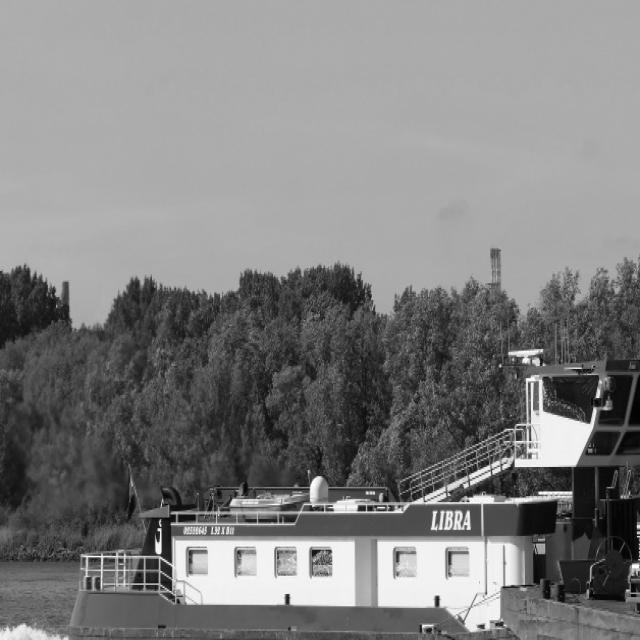tugboat: (66, 316, 640, 640)
